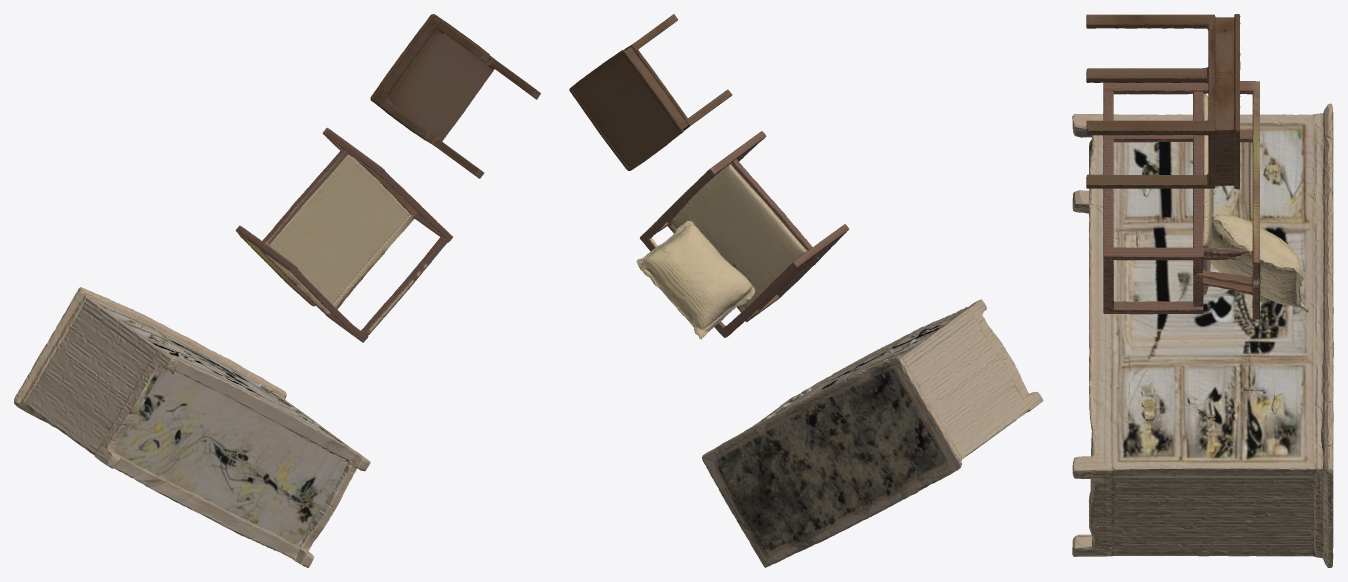
Rendered from scene_0000048_assembled.glb.
3 views of the same model, side by side, from view 1: azimuth 30°, elevation 25°; view 2: azimuth 150°, elevation 25°; view 3: azimuth 270°, elevation 25° (orthographic). The views are drawn at different scales.
Parts seen in each view (by area): view 1: world; view 2: world; view 3: world.
Part boxes in pixels (box(x1,y1,x2,y2)): world: box(14, 14, 540, 567); world: box(569, 14, 1043, 567); world: box(1072, 14, 1333, 567).
Size of the model in its own units: 1.91 by 1.96 by 0.6822.
3 materials, 3 textured.
